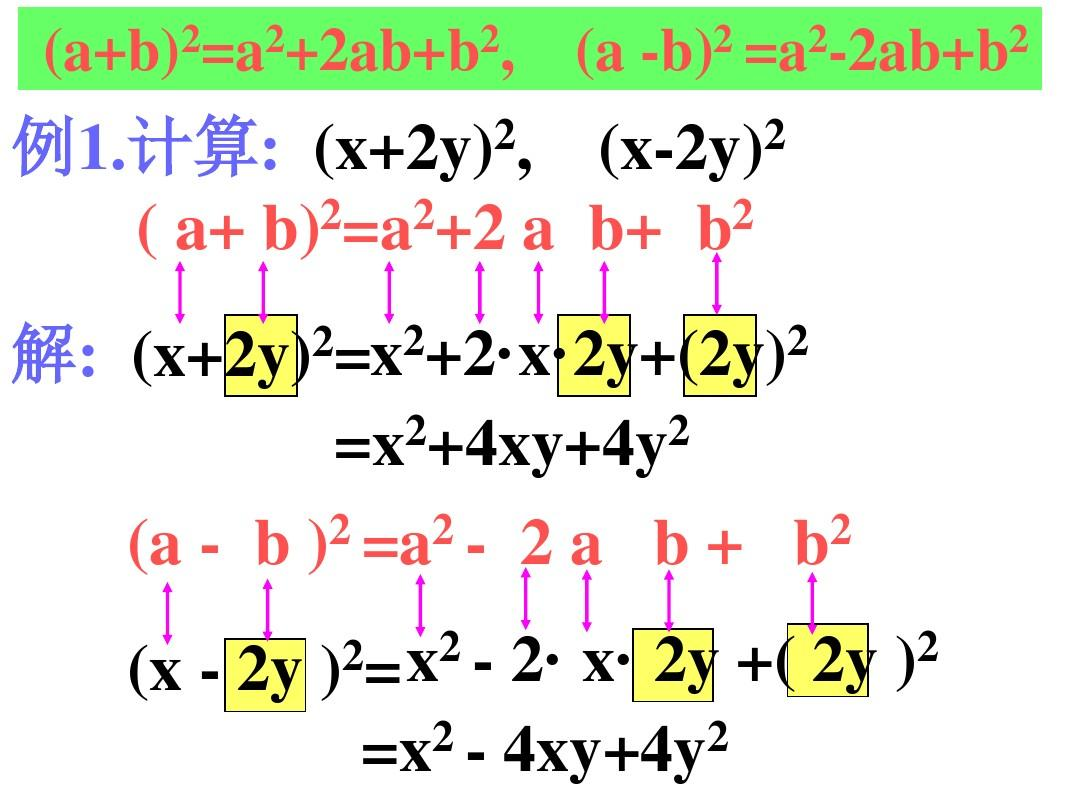square: (783, 318, 814, 359), (916, 629, 950, 666), (999, 21, 1036, 55), (406, 194, 437, 234), (668, 410, 697, 452), (704, 717, 736, 755), (491, 114, 520, 155), (762, 115, 793, 153), (399, 407, 429, 446), (399, 321, 425, 362), (828, 510, 855, 549), (480, 15, 505, 57), (325, 510, 352, 548), (435, 626, 461, 665), (710, 16, 734, 58), (307, 322, 334, 359), (731, 196, 756, 235), (431, 718, 457, 755), (262, 21, 291, 54), (341, 634, 366, 672), (315, 196, 343, 229), (432, 514, 457, 547), (805, 20, 827, 56), (178, 23, 200, 52)
